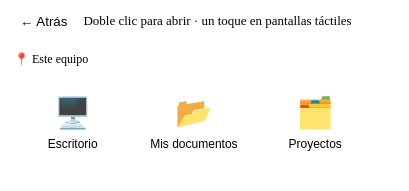
Test case: FileExplorer › opens an item context menu with the available action
Step 1. Right-click the button with aria-label "Carpeta Escritorio" → (73, 130), box [16,86,129,174]
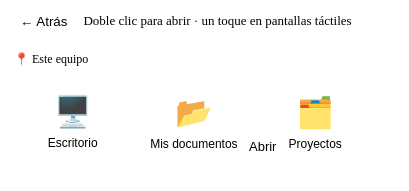
Check: the menu named "Acciones para Escritorio" is shown, box [236,129,392,164]
Step 2. Click the menu item "Abrir" → (314, 146), box [239,132,389,161]
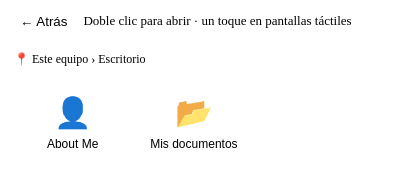
Check: the text named "Ruta actual" shows "Este equipo › Escritorio", box [32,52,146,66]
